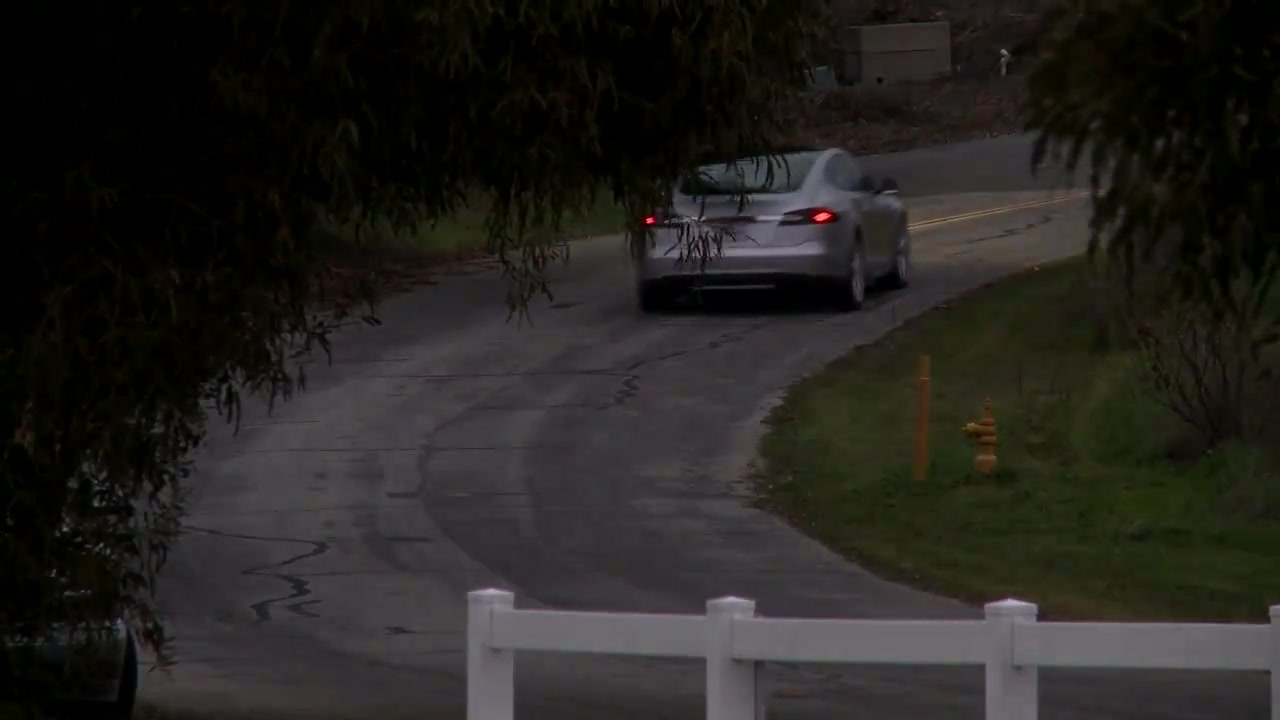car: (623, 137, 920, 313)
